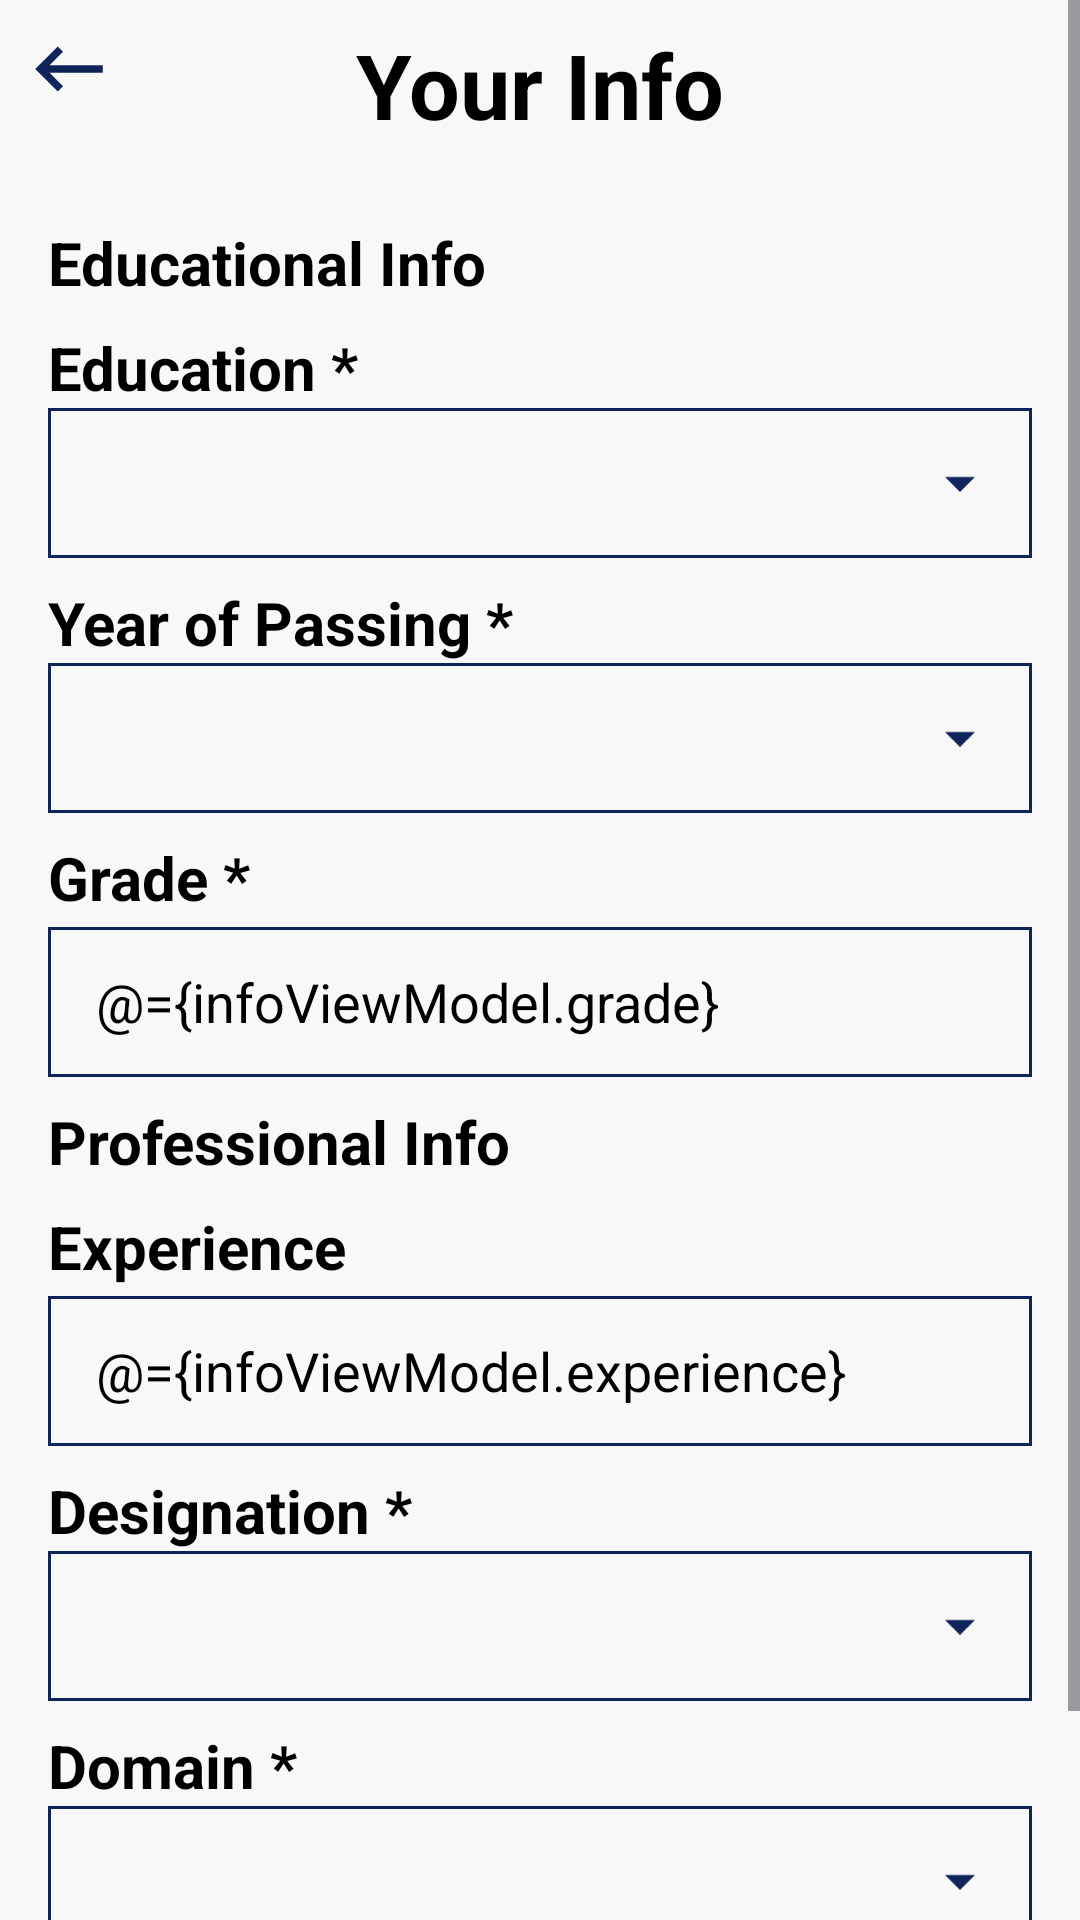

Named icons in this screenshot (1080x1920) and their centers, (x,y):
navigate back: (69,69)
